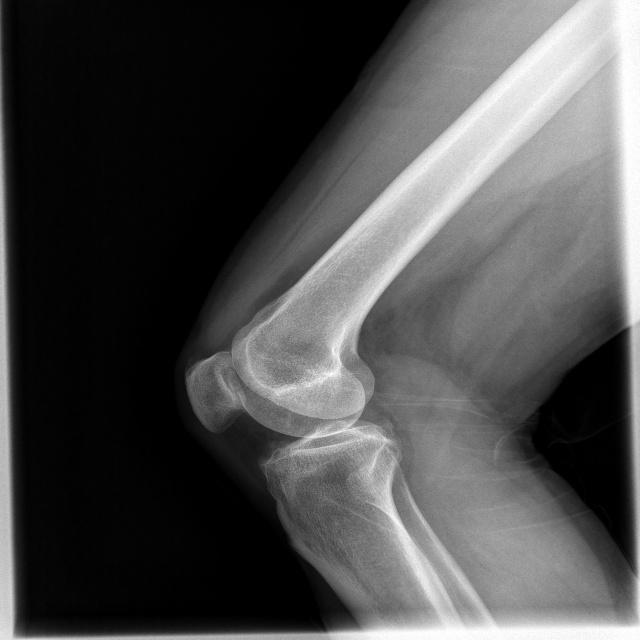Knee: (181, 333, 400, 505)
